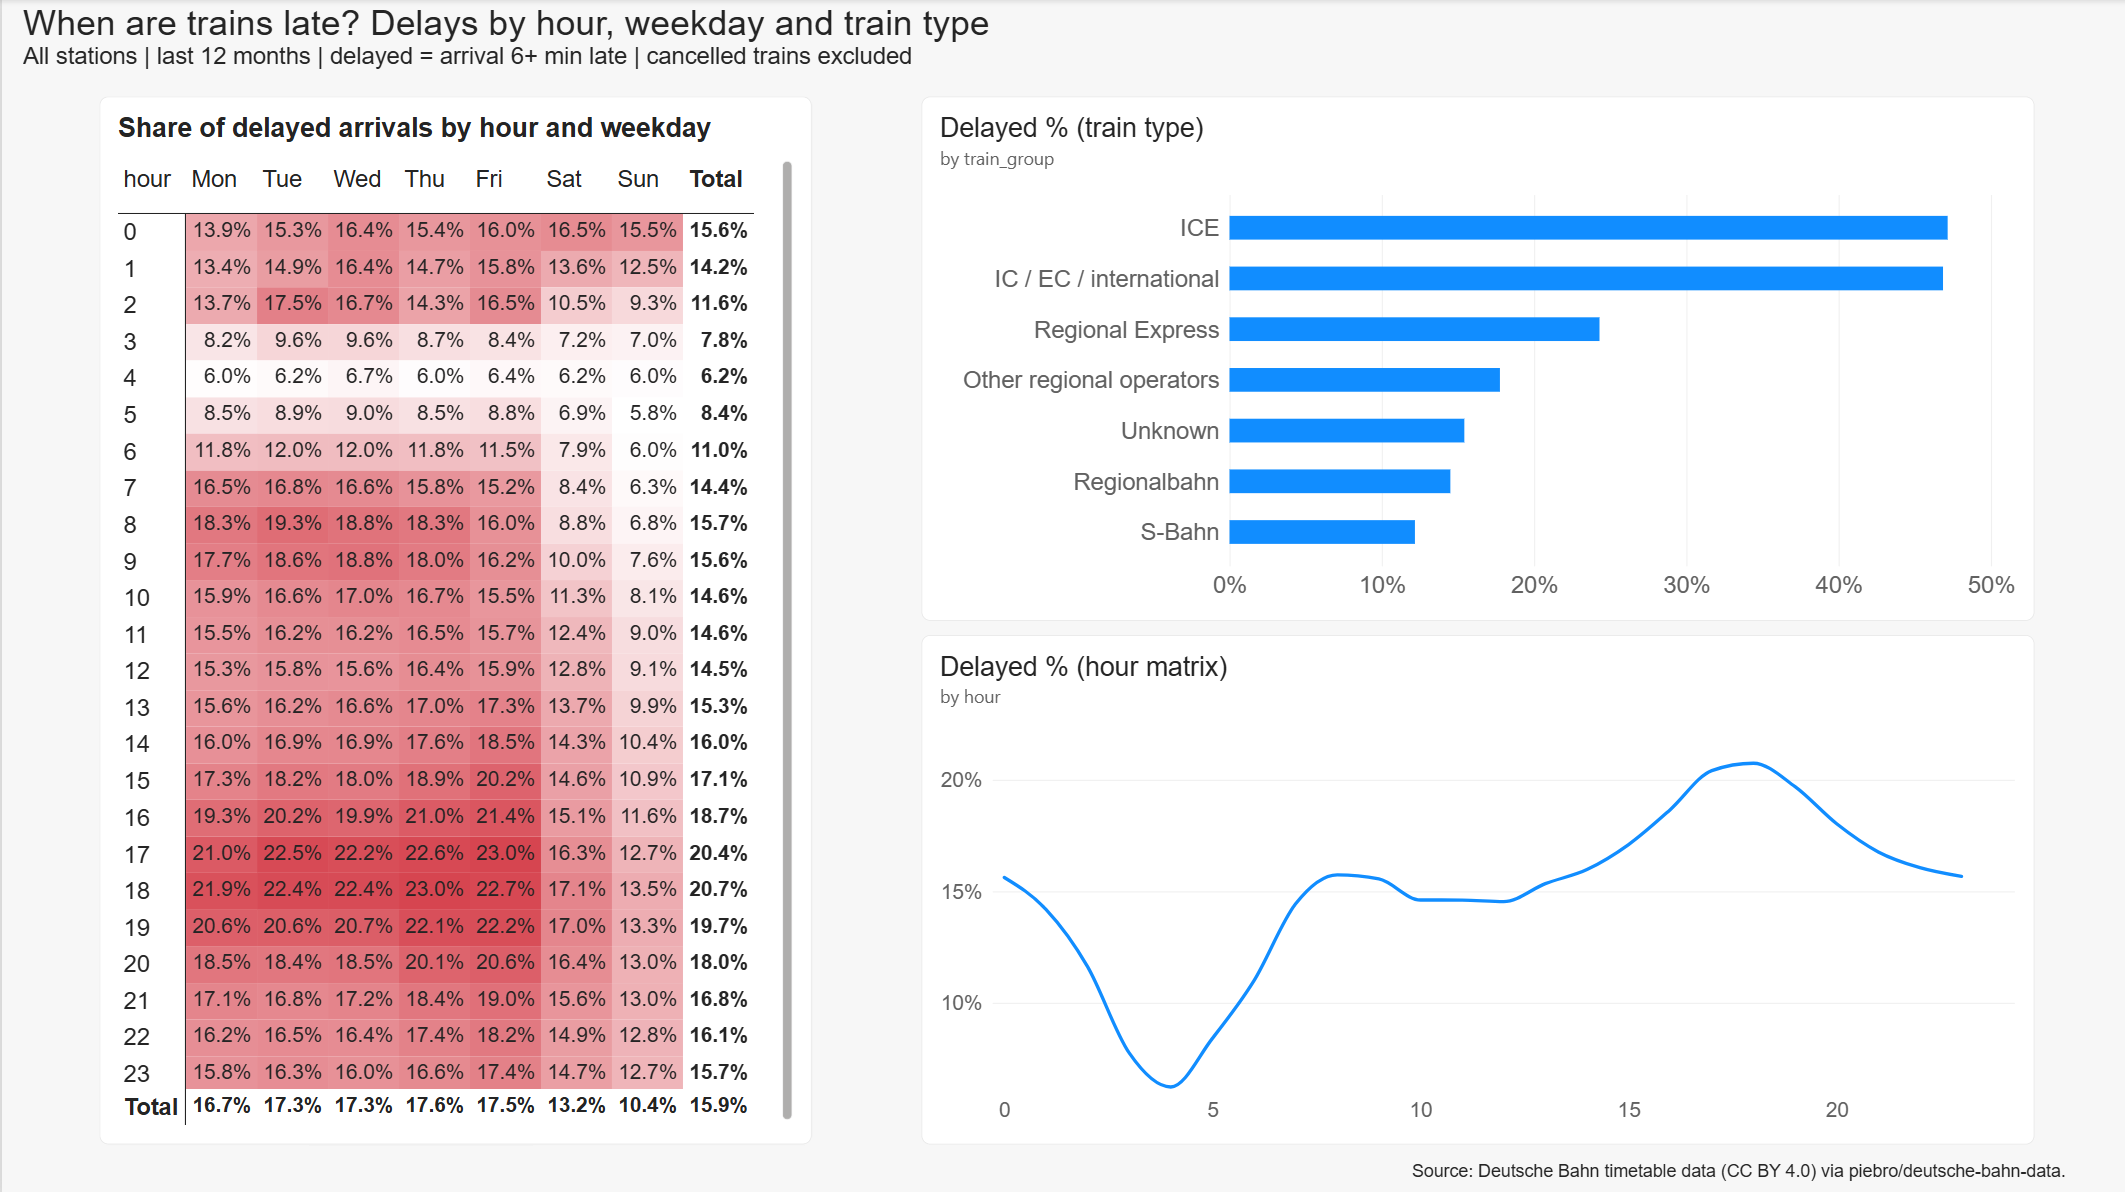

The dashboard page shown, as its layout file describes it:
{"tool":"powerbi","page":{"name":"Train Delay Map","canvas":[1920,1080],"ordinal":1},"visuals":[{"type":"pivotTable","title":"Share of delayed arrivals by hour and weekday","fields":{"Columns":["fact_hour_weekday.Weekday name"],"Rows":["fact_hour_weekday.hour"],"Values":["_Measures.Delayed % (hour matrix)"]},"box":[88,88,641.8,944.8],"z":0},{"type":"textbox","box":[1271.8,1046.8,644.2,33.2],"z":3},{"type":"clusteredBarChart","fields":{"Category":["fact_train_type_hour.train_group"],"Y":["_Measures.Delayed % (train type)"]},"box":[829.1,88,1003.4,472.4],"z":4},{"type":"lineChart","fields":{"Category":["fact_hour_weekday.hour"],"Y":["_Measures.Delayed % (hour matrix)"]},"box":[829.1,573.4,1003.4,459.4],"z":5},{"type":"textbox","box":[19.5,3.3,962.7,97.7],"z":6}]}

Visuals, with their boxes in screenshot pixels (x1, y1, x2, y2), scaled from the page's 1920x1080 canvas onto the 2125x1192 screenshot:
"Share of delayed arrivals by hour and weekday" pivotTable: [x1=97, y1=97, x2=808, y2=1140]
textbox: [x1=1408, y1=1155, x2=2121, y2=1191]
clusteredBarChart - fact_train_type_hour.train_group x _Measures.Delayed % (train type): [x1=918, y1=97, x2=2028, y2=619]
lineChart - fact_hour_weekday.hour x _Measures.Delayed % (hour matrix): [x1=918, y1=633, x2=2028, y2=1140]
textbox: [x1=22, y1=4, x2=1087, y2=111]
